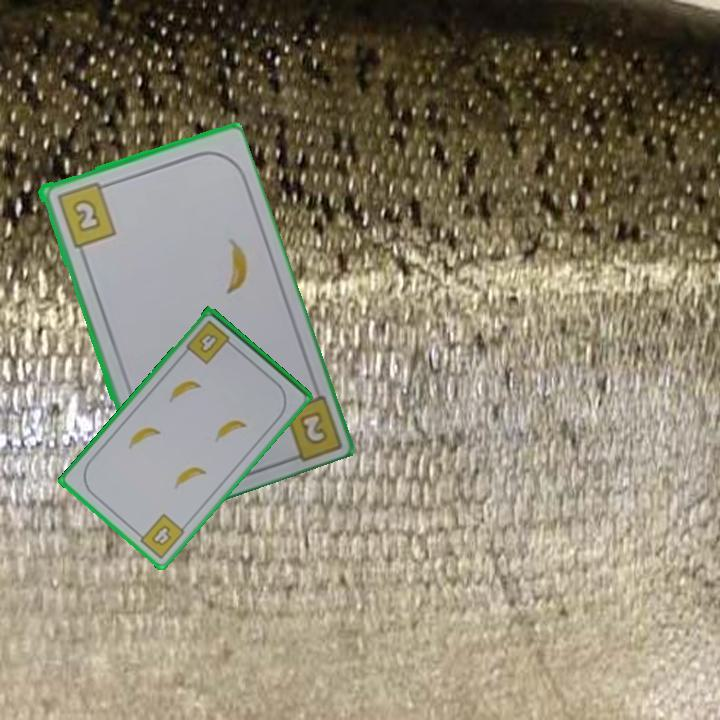2b: (53, 178, 119, 250), (295, 407, 331, 448)
4b: (132, 510, 188, 562), (182, 317, 237, 367)
